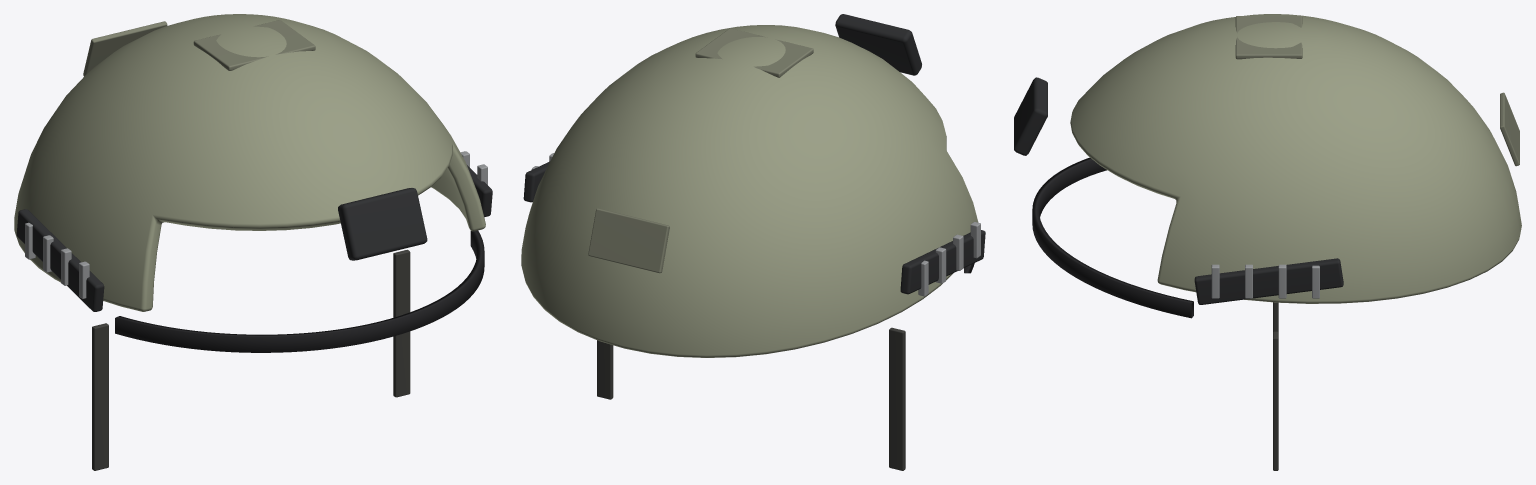
File: helmet_ballistic_T.glb
3 views of the same model, side by side, from view 1: azimuth 30°, elevation 25°; view 2: azimuth 150°, elevation 25°; view 3: azimuth 270°, elevation 25° (orthographic). The views are drawn at different scales.
Visible parts, largest first — view 1: helmet@Head; view 2: helmet@Head; view 3: helmet@Head.
Part boxes in pixels (x1,y1,x2,y2): helmet@Head: [14, 14, 492, 470]; helmet@Head: [521, 14, 985, 470]; helmet@Head: [1014, 14, 1521, 470].
Bounding box in the file's own units: 0.3261 × 0.3025 × 0.3798.
